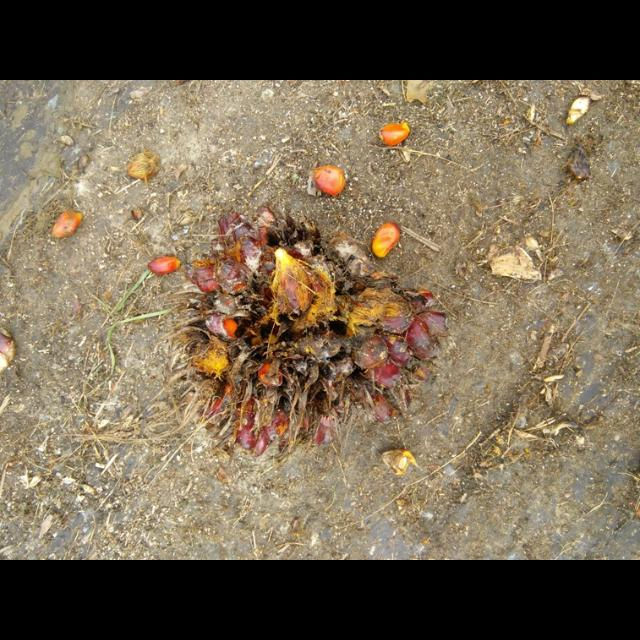Overripe: (182, 202, 446, 453)
